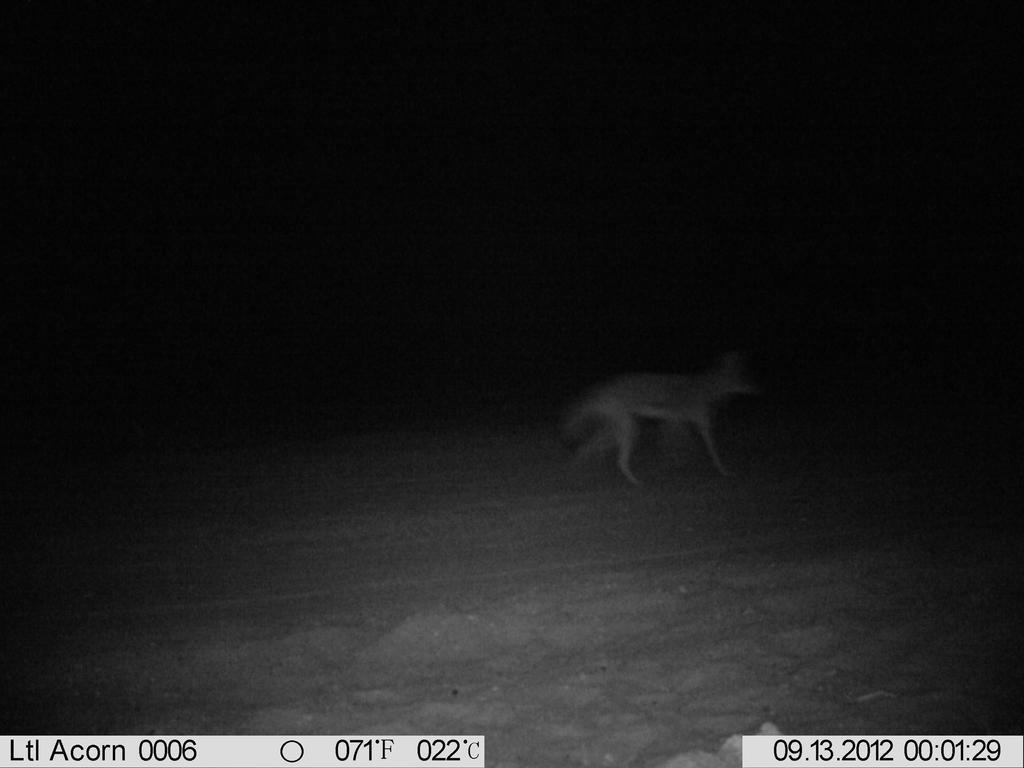coyote: (553, 342, 781, 488)
